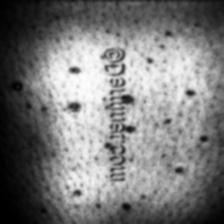Non-Cancerous Skin Condition: (130, 86, 212, 176), (3, 58, 95, 133), (31, 185, 144, 224), (138, 20, 178, 68)
